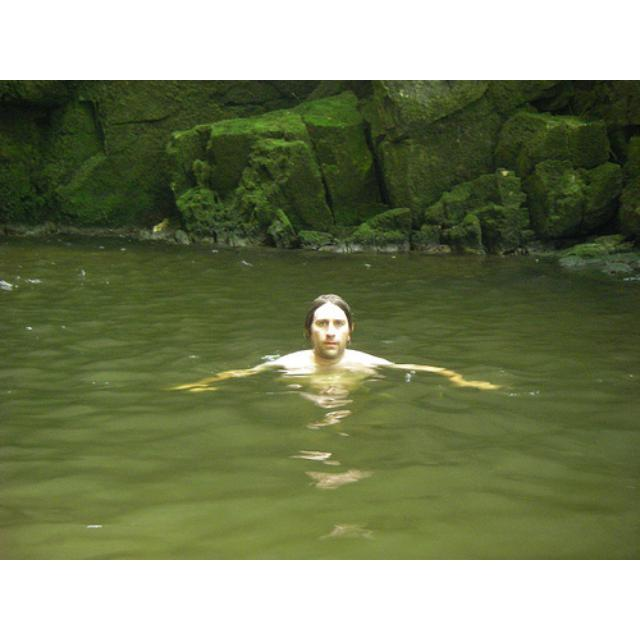human: (181, 293, 499, 396)
